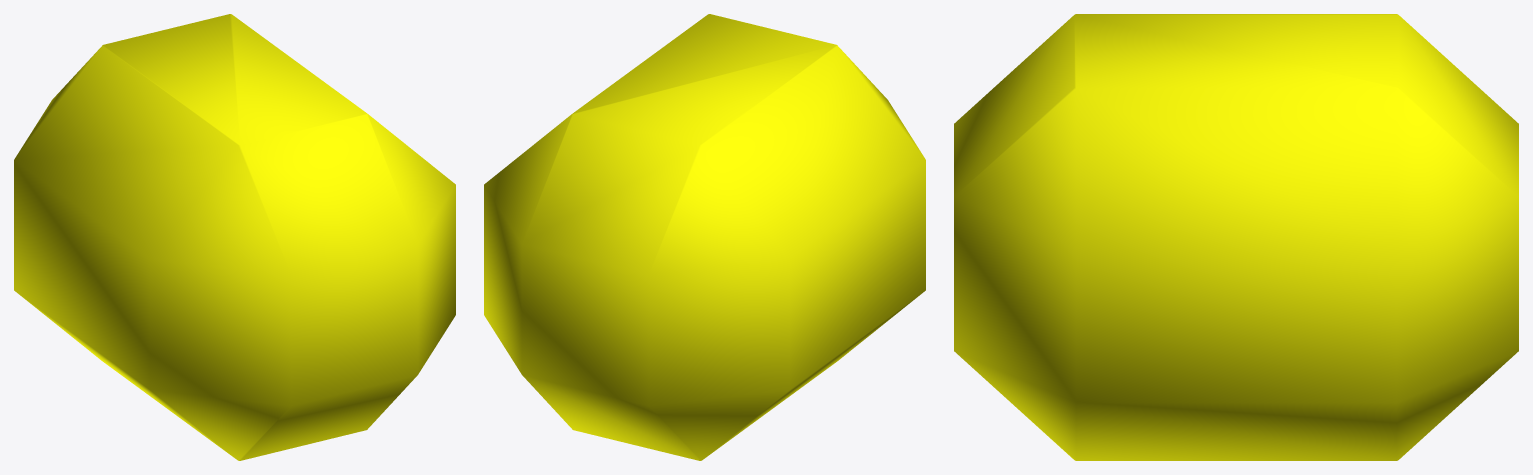
Rendered from A0509_3_1.bbox.gltf.
3 renders of one model, left to right at view 1: azimuth 30°, elevation 25°; view 2: azimuth 150°, elevation 25°; view 3: azimuth 270°, elevation 25°, orthographic. The views are drawn at different scales.
Visible parts, largest first — view 1: A0509_3_1.bbox; view 2: A0509_3_1.bbox; view 3: A0509_3_1.bbox.
Part boxes in pixels (left/top/right/bottom): A0509_3_1.bbox: left=14, top=14, right=455, bottom=460; A0509_3_1.bbox: left=484, top=14, right=925, bottom=460; A0509_3_1.bbox: left=954, top=14, right=1518, bottom=460.
Bounding box in the file's own units: 116 × 114 × 157.
